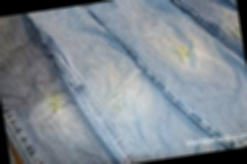earth: (175, 43, 193, 63), (48, 94, 64, 116)
